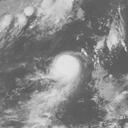cyclone: (49, 51, 83, 84)
